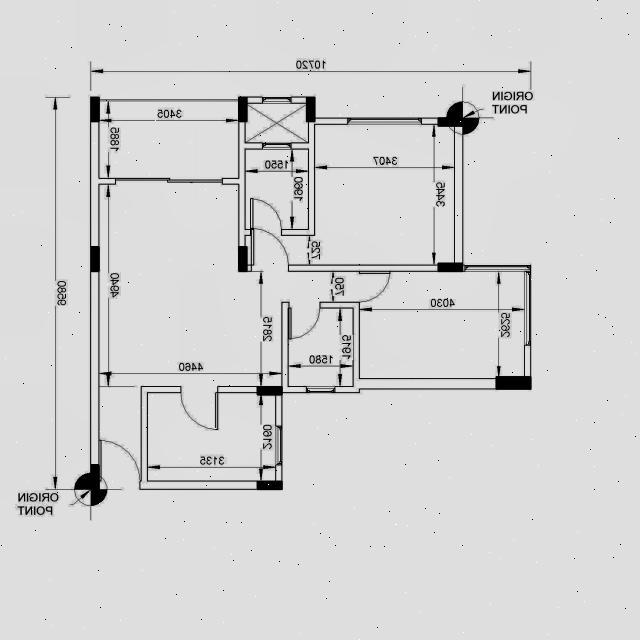Column: (496, 376, 532, 390), (306, 96, 316, 122), (238, 96, 248, 122), (238, 246, 248, 272), (90, 96, 100, 122), (90, 246, 100, 272), (256, 386, 282, 396), (90, 464, 100, 490), (256, 480, 282, 490), (438, 262, 463, 272), (438, 117, 462, 127)
Door: (100, 440, 141, 490), (180, 386, 218, 430), (251, 228, 289, 272), (250, 198, 282, 236), (288, 302, 320, 339), (358, 271, 391, 303)
Sliding Door: (115, 178, 223, 184)
Window: (524, 272, 531, 346), (348, 118, 422, 124), (463, 266, 531, 272), (262, 96, 292, 104), (262, 142, 292, 150), (306, 386, 336, 393)
